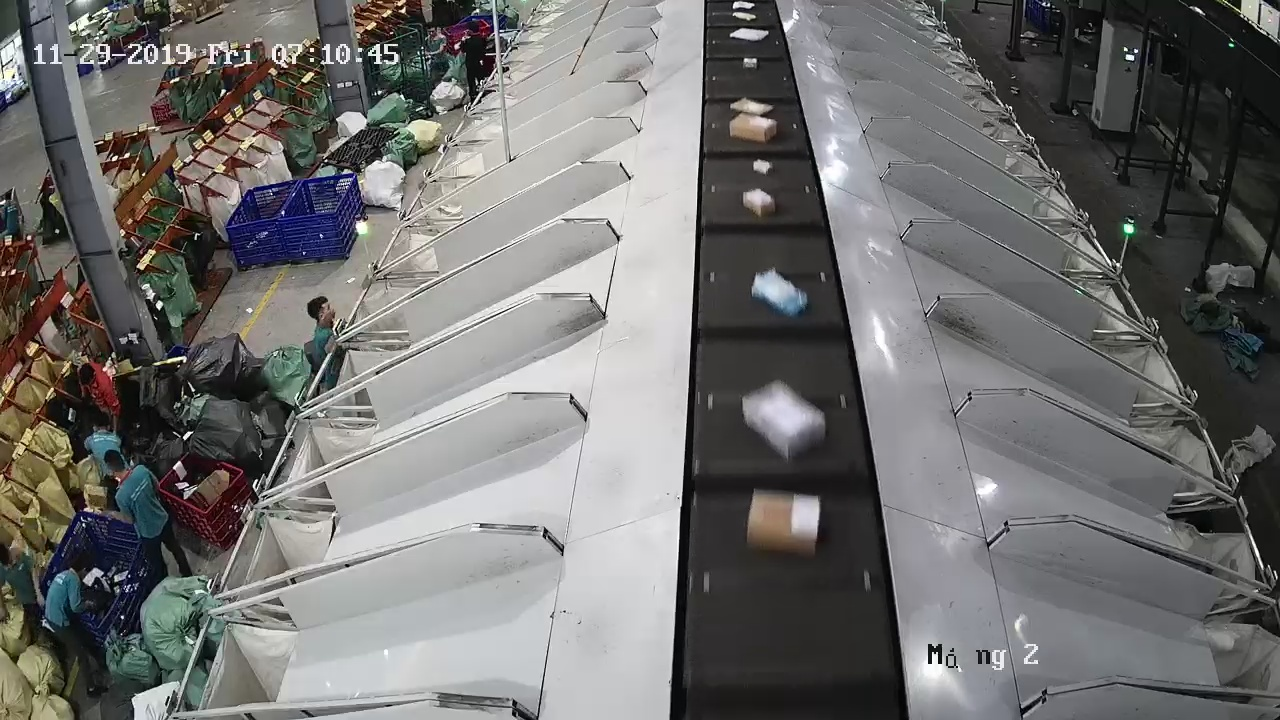parcel: (741, 381, 827, 464), (745, 488, 820, 558), (751, 269, 809, 319), (742, 188, 775, 217), (752, 158, 774, 175)
